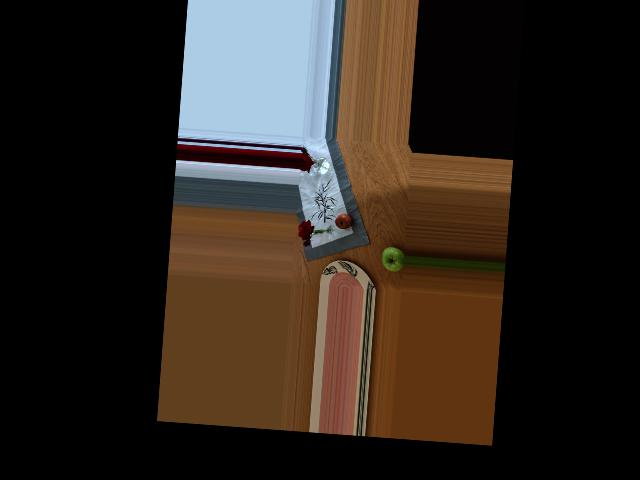apple: (379, 245, 406, 273)
